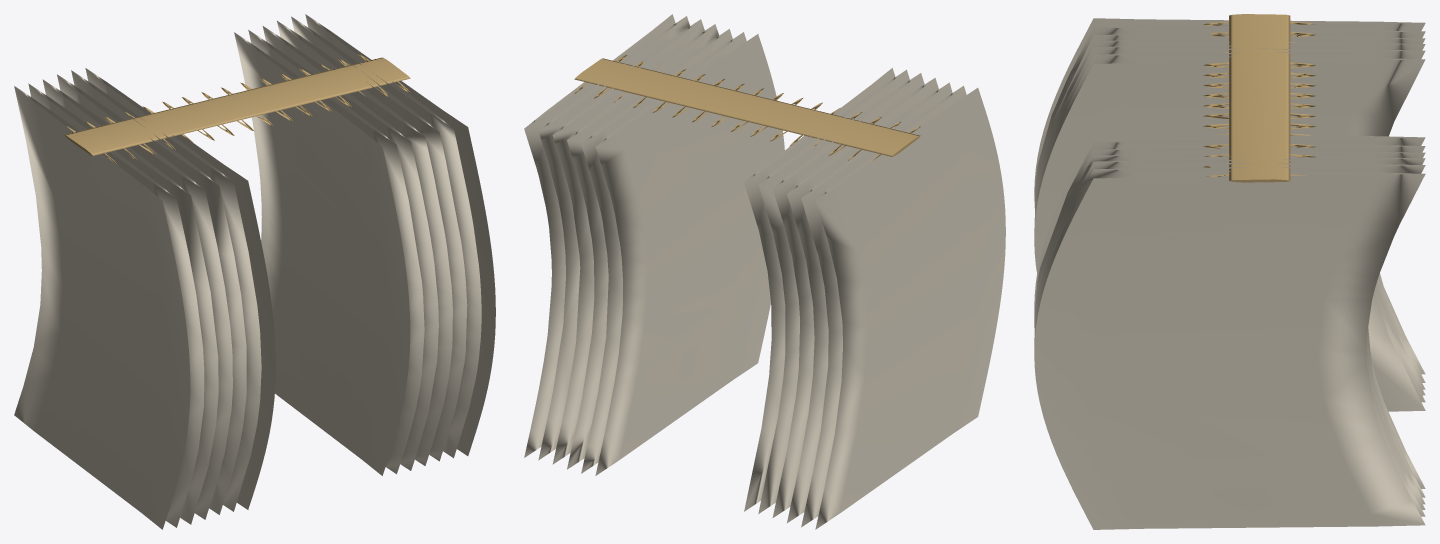
The model's file is studio-curtain-linen.lod.glb.
3 views of the same model, side by side, from view 1: azimuth 30°, elevation 25°; view 2: azimuth 150°, elevation 25°; view 3: azimuth 270°, elevation 25° (orthographic). The views are drawn at different scales.
Parts seen in each view (by area): view 1: part (×2); view 2: part (×2); view 3: part (×2).
Boxes of the visible parts, <box> form: part (×2): <box>14,14,495,529</box>; part (×2): <box>524,14,1005,529</box>; part (×2): <box>1034,14,1425,529</box>.
Bounding box in the file's own units: 1 × 1 × 1.
